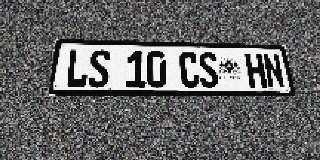0: (146, 51, 167, 88)
1: (126, 51, 146, 88)
C: (179, 52, 200, 88)
H: (245, 53, 268, 88)
L: (65, 49, 90, 88)
N: (262, 54, 286, 88)
S: (88, 50, 110, 88), (198, 52, 220, 88)
